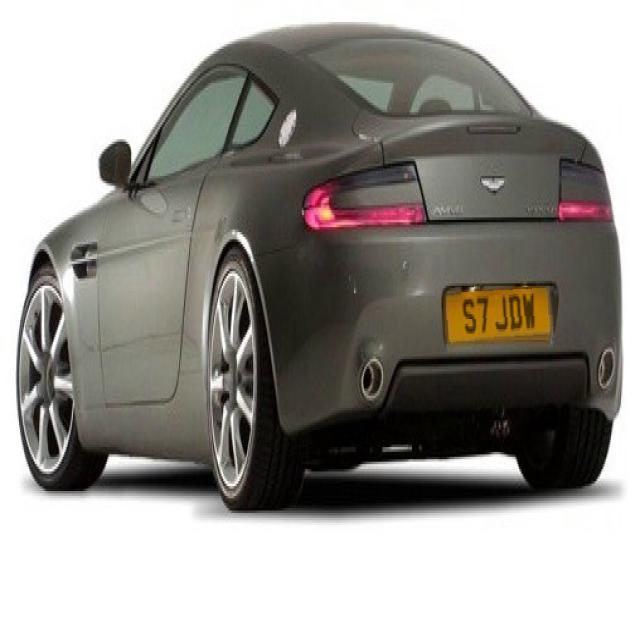licence: (445, 286, 554, 344)
